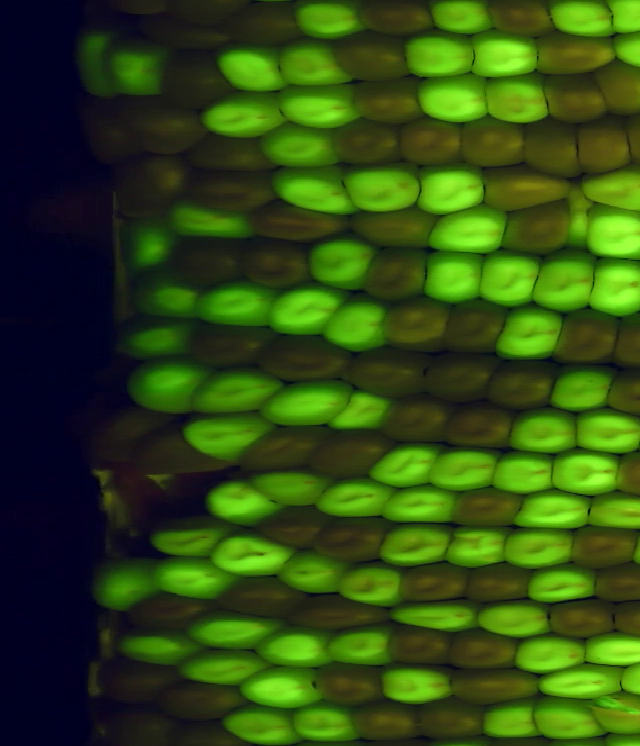fluorescent: (182, 410, 281, 462), (258, 376, 356, 428), (124, 356, 213, 413), (197, 362, 285, 415), (200, 90, 290, 139), (276, 81, 371, 127), (268, 281, 346, 336), (533, 252, 601, 314), (387, 593, 481, 637), (335, 165, 424, 210), (214, 40, 288, 93), (275, 166, 355, 215), (237, 664, 324, 709), (306, 236, 377, 291), (479, 249, 543, 310), (498, 304, 564, 363), (421, 247, 488, 305), (481, 69, 550, 125), (131, 266, 204, 318), (173, 645, 267, 685), (258, 624, 336, 672), (155, 554, 233, 602), (467, 29, 545, 77), (197, 281, 280, 326), (170, 200, 261, 241), (431, 208, 510, 255), (205, 479, 282, 527), (371, 437, 438, 492), (90, 557, 162, 608), (413, 72, 491, 119), (109, 37, 170, 97), (259, 124, 338, 170), (379, 523, 455, 570), (374, 663, 457, 706), (510, 405, 578, 457), (404, 29, 479, 76), (416, 166, 487, 215), (279, 38, 353, 85), (504, 525, 576, 573), (586, 199, 640, 263), (571, 406, 640, 456), (516, 488, 594, 532), (533, 696, 610, 740), (118, 313, 195, 357), (294, 1, 376, 42), (277, 545, 348, 592), (550, 361, 614, 413), (73, 30, 121, 99), (551, 450, 623, 495), (254, 468, 333, 509), (122, 629, 200, 670), (478, 598, 554, 640), (383, 482, 459, 524), (493, 449, 562, 495), (590, 257, 640, 320), (190, 613, 285, 646), (514, 634, 590, 675), (214, 534, 290, 575), (223, 704, 297, 746), (327, 623, 398, 666), (429, 446, 496, 491), (322, 303, 389, 348), (317, 478, 392, 518), (538, 665, 629, 697), (293, 703, 364, 744), (444, 524, 510, 568), (343, 564, 407, 609), (330, 384, 390, 432), (150, 521, 226, 558), (479, 699, 544, 740), (552, 1, 619, 40), (532, 565, 598, 604), (430, 1, 498, 37), (129, 220, 177, 268), (590, 691, 640, 737), (583, 170, 640, 210), (586, 492, 640, 532), (560, 189, 595, 250), (583, 630, 640, 666), (605, 1, 640, 36), (602, 732, 640, 746)
nonfluorescent: (129, 417, 233, 475), (122, 89, 204, 155), (116, 152, 193, 218), (74, 89, 141, 161), (328, 32, 415, 87), (383, 293, 451, 360), (185, 318, 274, 369), (345, 347, 430, 399), (187, 163, 283, 209), (421, 352, 498, 409), (234, 237, 315, 291), (164, 49, 233, 112), (242, 422, 327, 473), (360, 242, 431, 303), (262, 335, 350, 384), (552, 307, 621, 369), (96, 655, 184, 703), (217, 572, 300, 621), (456, 114, 528, 170), (307, 425, 386, 476), (477, 165, 572, 207), (158, 676, 255, 717), (517, 116, 582, 177), (95, 405, 172, 456), (485, 359, 559, 412), (444, 661, 542, 701), (252, 202, 352, 241), (529, 32, 617, 76), (183, 133, 276, 174), (172, 237, 248, 287), (575, 116, 635, 178), (289, 588, 392, 624), (393, 557, 475, 602), (385, 392, 452, 447), (498, 205, 573, 254), (348, 79, 429, 124), (355, 207, 437, 251), (309, 512, 389, 557), (399, 115, 464, 170), (314, 659, 390, 706), (137, 16, 236, 52), (333, 119, 406, 167), (446, 298, 505, 357), (218, 1, 300, 43), (129, 594, 227, 629), (446, 400, 513, 451), (539, 72, 606, 122), (466, 559, 540, 603), (346, 1, 439, 35), (467, 1, 563, 33), (259, 501, 325, 547), (415, 698, 494, 736), (113, 706, 186, 746), (590, 57, 640, 115), (455, 485, 522, 527), (353, 700, 425, 738), (573, 525, 640, 565), (448, 628, 519, 665), (390, 625, 458, 663), (548, 599, 617, 635), (173, 717, 252, 746), (163, 1, 247, 26), (600, 364, 640, 416), (594, 562, 640, 602), (108, 1, 170, 17), (493, 741, 553, 746)
